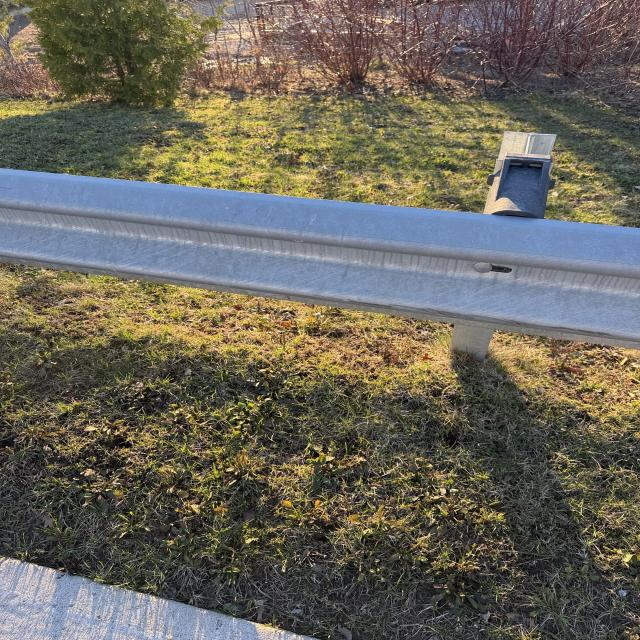Guard rail: (5, 170, 611, 338), (484, 134, 555, 216)
